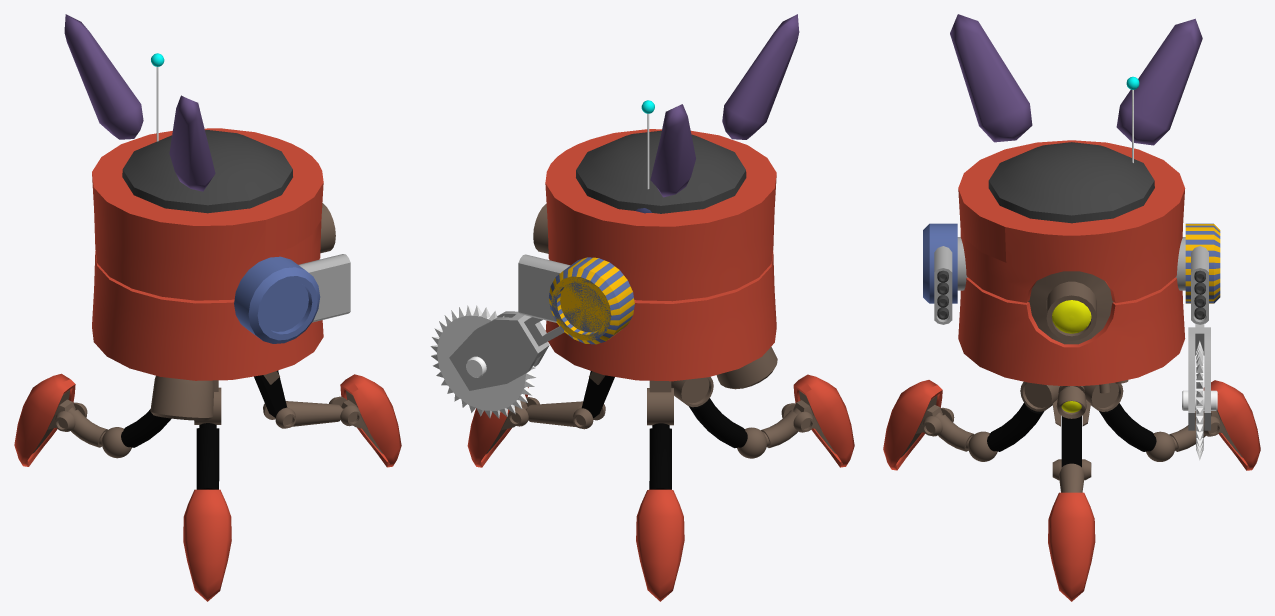
File: Robot_Character1.fbx
3 views of the same model, side by side, from view 1: azimuth 30°, elevation 25°; view 2: azimuth 150°, elevation 25°; view 3: azimuth 270°, elevation 25° (orthographic). The views are drawn at different scales.
Visible parts, largest first — view 1: Head_Outside_Top_GEO, Head_Outside_Bottom_GEO, Helmet_Base, Leg_R_Cover_Geo (×2), Gun_L_Shoulder, Helmet_Ear_L, Head_Outside_Top_Panel_GEO, Helmet_Ear_R, Leg_F_Cover_Geo, Leg_R_Middle1_Rotate_GEO (×2), Balancer_GEO, Gun_L_Case (+6 smaller); view 2: Head_Outside_Top_GEO, Head_Outside_Bottom_GEO, Helmet_Base, Leg_R_Cover_Geo (×2), Saw_Hand, Helmet_Ear_R, Saw_Shoulder, Gun_L_Shoulder, BladeMain, Helmet_Ear_L, Leg_R_Middle1_Rotate_GEO (×2), Gun_L_Case (+10 smaller); view 3: Head_Outside_Top_GEO, Head_Outside_Bottom_GEO, Helmet_Base, Helmet_Ear_R, Helmet_Ear_L, Leg_R_Cover_Geo (×2), Leg_F_Cover_Geo, Gun_L_Shoulder (×2), Head_Outside_Top_Panel_GEO, Leg_R_Middle1_Rotate_GEO (×2), Head_Inside_GEO, Leg_R_Middle2_Rotate_GEO (×2) (+11 smaller).
Boxes of the visible parts, left/top/right/bottom form: Head_Outside_Top_GEO: left=92, top=128, right=323, bottom=300; Head_Outside_Bottom_GEO: left=92, top=251, right=323, bottom=380; Helmet_Base: left=122, top=130, right=292, bottom=213; Leg_R_Cover_Geo (×2): left=14, top=373, right=231, bottom=601; Gun_L_Shoulder: left=234, top=256, right=320, bottom=343; Helmet_Ear_L: left=64, top=14, right=143, bottom=139; Head_Outside_Top_Panel_GEO: left=250, top=181, right=323, bottom=256; Helmet_Ear_R: left=169, top=95, right=215, bottom=191; Leg_F_Cover_Geo: left=340, top=374, right=401, bottom=467; Leg_R_Middle1_Rotate_GEO (×2): left=121, top=409, right=219, bottom=489; Balancer_GEO: left=150, top=376, right=214, bottom=420; Gun_L_Case: left=298, top=254, right=350, bottom=322; Head_Outside_Top_GEO: left=545, top=133, right=776, bottom=301; Head_Outside_Bottom_GEO: left=545, top=251, right=776, bottom=381; Helmet_Base: left=576, top=130, right=746, bottom=213; Leg_R_Cover_Geo (×2): left=636, top=374, right=854, bottom=601; Saw_Hand: left=449, top=311, right=564, bottom=390; Helmet_Ear_R: left=722, top=14, right=799, bottom=139; Saw_Shoulder: left=549, top=257, right=634, bottom=344; Gun_L_Shoulder: left=549, top=257, right=634, bottom=344; BladeMain: left=437, top=314, right=526, bottom=410; Helmet_Ear_L: left=650, top=104, right=695, bottom=197; Leg_R_Middle1_Rotate_GEO (×2): left=649, top=398, right=747, bottom=489; Gun_L_Case: left=518, top=254, right=570, bottom=322; Head_Outside_Top_GEO: left=958, top=140, right=1185, bottom=303; Head_Outside_Bottom_GEO: left=958, top=277, right=1185, bottom=386; Helmet_Base: left=988, top=142, right=1154, bottom=223; Helmet_Ear_R: left=950, top=14, right=1032, bottom=142; Helmet_Ear_L: left=1116, top=18, right=1202, bottom=145; Leg_R_Cover_Geo (×2): left=883, top=380, right=1260, bottom=470; Leg_F_Cover_Geo: left=1048, top=492, right=1095, bottom=601; Gun_L_Shoulder (×2): left=923, top=223, right=1220, bottom=303; Head_Outside_Top_Panel_GEO: left=958, top=188, right=1023, bottom=262; Leg_R_Middle1_Rotate_GEO (×2): left=987, top=403, right=1156, bottom=451; Head_Inside_GEO: left=1028, top=271, right=1113, bottom=344; Leg_R_Middle2_Rotate_GEO (×2): left=935, top=412, right=1205, bottom=461.
Bounding box in the file's own units: 4.03 × 6.14 × 4.54.
